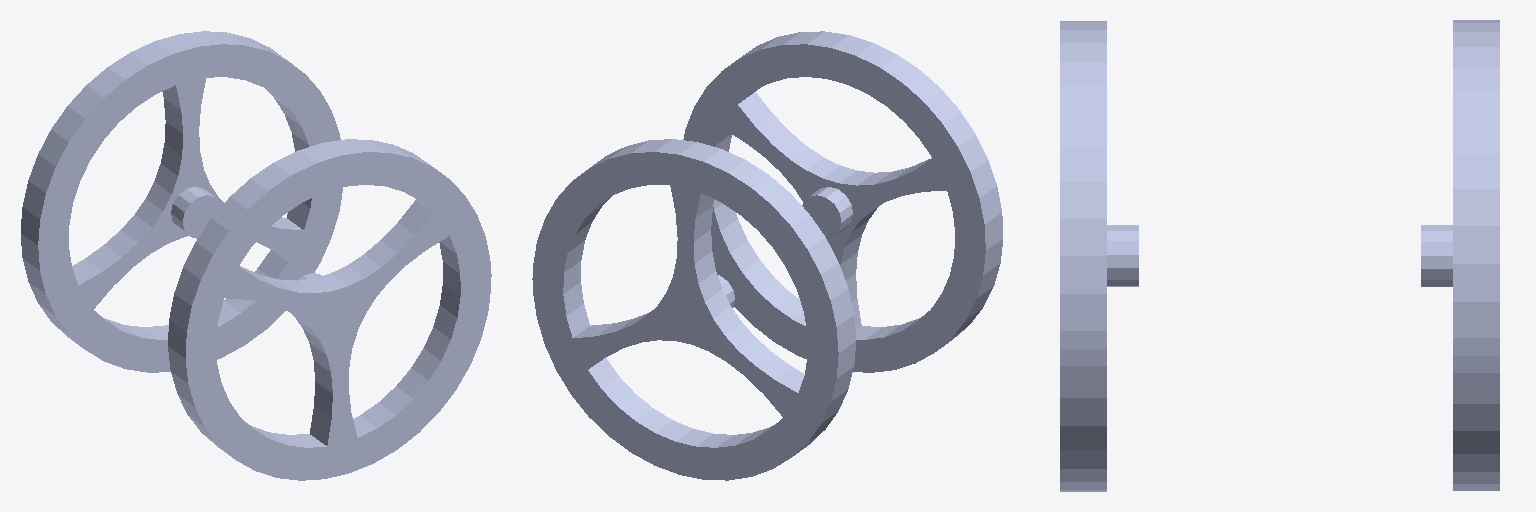
The robot description file, URDF, robot "URDF":
<?xml version="1.0" encoding="utf-8"?>
<!-- This URDF was automatically created by SolidWorks to URDF Exporter! Originally created by [author] ([email redacted]) 
     Commit Version: 1.5.1-0-g916b5db  Build Version: 1.5.7152.31018
     For more information, please see http://wiki.ros.org/sw_urdf_exporter -->
<robot
  name="URDF">
  <link
    name="Body">
    <inertial>
      <origin
        xyz="-0.0395402471728084 -0.00184989651717486 0.09"
        rpy="0 0 0" />
      <mass
        value="0.243" />
      <inertia
        ixx="0.00023596875"
        ixy="3.03041961099635E-21"
        ixz="-2.32620397841817E-20"
        iyy="0.000253125"
        iyz="1.88834137129082E-22"
        izz="0.00012864375" />
    </inertial>
    <visual>
      <origin
        xyz="0 0 0"
        rpy="0 0 0" />
      <geometry>
        <mesh
          filename="package://URDF/meshes/Body.STL" />
      </geometry>
      <material
        name="">
        <color
          rgba="0.792156862745098 0.819607843137255 0.933333333333333 1" />
      </material>
    </visual>
    <collision>
      <origin
        xyz="0 0 0"
        rpy="0 0 0" />
      <geometry>
        <mesh
          filename="package://URDF/meshes/Body.STL" />
      </geometry>
    </collision>
  </link>
  <link
    name="Pinion">
    <inertial>
      <origin
        xyz="-0.09 0.005 0"
        rpy="0 0 0" />
      <mass
        value="0.0205" />
      <inertia
        ixx="1.94320833333333E-06"
        ixy="7.97744863461242E-23"
        ixz="-3.56610955074228E-21"
        iyy="7.43702916666667E-05"
        iyz="1.20051464052139E-23"
        izz="7.276875E-05" />
    </inertial>
    <visual>
      <origin
        xyz="0 0 0"
        rpy="0 0 0" />
      <geometry>
        <mesh
          filename="package://URDF/meshes/Pinion.STL" />
      </geometry>
      <material
        name="">
        <color
          rgba="0.792156862745098 0.819607843137255 0.933333333333333 1" />
      </material>
    </visual>
    <collision>
      <origin
        xyz="0 0 0"
        rpy="0 0 0" />
      <geometry>
        <mesh
          filename="package://URDF/meshes/Pinion.STL" />
      </geometry>
    </collision>
  </link>
  <joint
    name="Jump_Joint"
    type="prismatic">
    <origin
      xyz="0.077465 -0.09 -0.0073499"
      rpy="1.5708 0 0" />
    <parent
      link="Body" />
    <child
      link="Pinion" />
    <axis
      xyz="1 0 0" />
    <limit
      lower="0"
      upper="0"
      effort="0"
      velocity="0" />
  </joint>
  <link
    name="Wheel_L">
    <inertial>
      <origin
        xyz="1.97884415333027E-07 -9.33814763134401E-07 0.00780509321470493"
        rpy="0 0 0" />
      <mass
        value="0.128695943927534" />
      <inertia
        ixx="0.000240458281131636"
        ixy="9.43470263039089E-10"
        ixz="2.11505157940015E-10"
        iyy="0.000240461373941782"
        iyz="-3.97200062123865E-10"
        izz="0.000475201172645655" />
    </inertial>
    <visual>
      <origin
        xyz="0 0 0"
        rpy="0 0 0" />
      <geometry>
        <mesh
          filename="package://URDF/meshes/Wheel_L.STL" />
      </geometry>
      <material
        name="">
        <color
          rgba="0.792156862745098 0.819607843137255 0.933333333333333 1" />
      </material>
    </visual>
    <collision>
      <origin
        xyz="0 0 0"
        rpy="0 0 0" />
      <geometry>
        <mesh
          filename="package://URDF/meshes/Wheel_L.STL" />
      </geometry>
    </collision>
  </link>
  <joint
    name="Wheel_L_REV"
    type="fixed">
    <origin
      xyz="-0.038359 -0.16 -0.0021168"
      rpy="-1.5708 -0.032444 0" />
    <parent
      link="Body" />
    <child
      link="Wheel_L" />
    <axis
      xyz="0 0 0" />
  </joint>
  <link
    name="Wheel_R">
    <inertial>
      <origin
        xyz="1.97884415339966E-07 -9.33814763140906E-07 0.00780509321470492"
        rpy="0 0 0" />
      <mass
        value="0.128695943927534" />
      <inertia
        ixx="0.000240458281131637"
        ixy="9.43470262995111E-10"
        ixz="2.11505157944668E-10"
        iyy="0.000240461373941782"
        iyz="-3.97200062126965E-10"
        izz="0.000475201172645655" />
    </inertial>
    <visual>
      <origin
        xyz="0 0 0"
        rpy="0 0 0" />
      <geometry>
        <mesh
          filename="package://URDF/meshes/Wheel_R.STL" />
      </geometry>
      <material
        name="">
        <color
          rgba="0.792156862745098 0.819607843137255 0.933333333333333 1" />
      </material>
    </visual>
    <collision>
      <origin
        xyz="0 0 0"
        rpy="0 0 0" />
      <geometry>
        <mesh
          filename="package://URDF/meshes/Wheel_R.STL" />
      </geometry>
    </collision>
  </link>
  <joint
    name="Wheel_R_REV"
    type="fixed">
    <origin
      xyz="-0.038359 -0.02 -0.0021168"
      rpy="1.5708 0 0" />
    <parent
      link="Body" />
    <child
      link="Wheel_R" />
    <axis
      xyz="0 0 0" />
  </joint>
</robot>

--- Render facts (derived) ---
The picture shows the robot from 3 angles, left to right: view 1: azimuth 30°, elevation 25°; view 2: azimuth 150°, elevation 25°; view 3: azimuth 270°, elevation 25°; orthographic projection.
Robot: URDF — 4 links, 3 joints (1 prismatic, 2 fixed); root link Body; default pose: all joints at 0.
Visible links, largest first — view 1: Wheel_L, Wheel_R; view 2: Wheel_R, Wheel_L; view 3: Wheel_L, Wheel_R.
Boxes of the visible links, x1,y1,x2,y2 form: Wheel_L: (168,139,491,480); Wheel_R: (21,31,342,372); Wheel_R: (532,139,855,480); Wheel_L: (683,31,1002,372); Wheel_L: (1060,21,1138,491); Wheel_R: (1421,20,1499,490).
Size in the robot's own frame: 0.15 by 0.14 by 0.1499 metres.
Meshes: 4 distinct files referenced, 2 mesh visuals loaded (2 binary STL); not drawn: 2 (file found but could not be loaded).